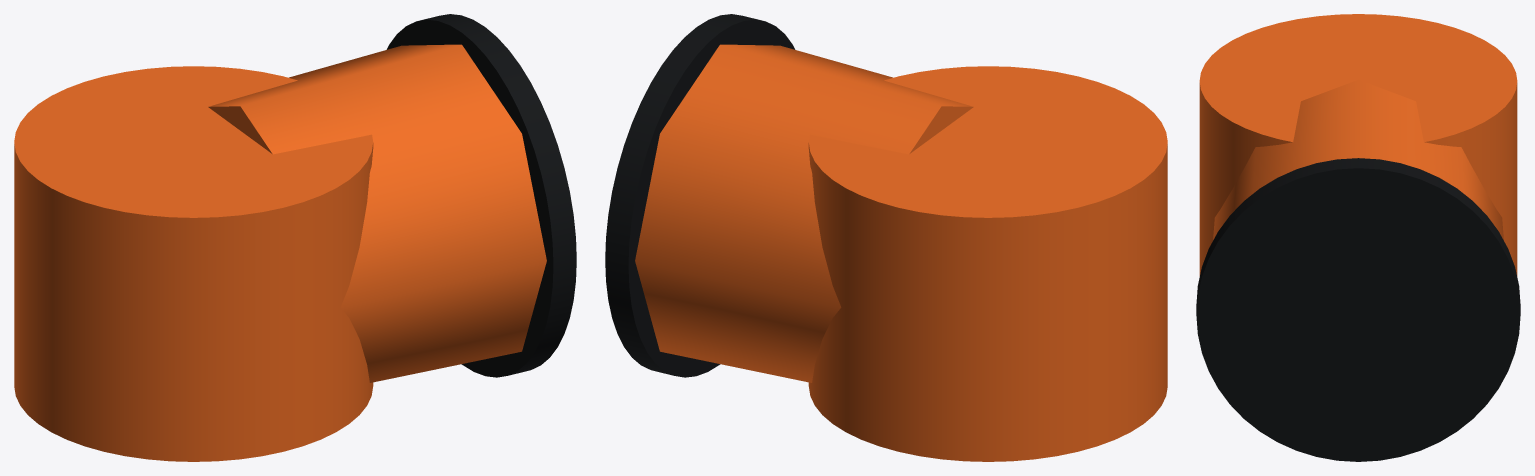
3 renders of one model, left to right at view 1: azimuth 30°, elevation 25°; view 2: azimuth 150°, elevation 25°; view 3: azimuth 270°, elevation 25°, orthographic. The views are drawn at different scales.
Visible parts, largest first — view 1: a5_housing, wrist_nose, a6_seal; view 2: a5_housing, wrist_nose, a6_seal; view 3: a6_seal, a5_housing, wrist_nose.
Part boxes in pixels (bbox=[...]): a5_housing: bbox=[14, 66, 373, 461]; wrist_nose: bbox=[208, 44, 546, 382]; a6_seal: bbox=[386, 14, 576, 377]; a5_housing: bbox=[808, 66, 1167, 461]; wrist_nose: bbox=[635, 44, 973, 382]; a6_seal: bbox=[605, 14, 795, 377]; a6_seal: bbox=[1196, 158, 1520, 461]; a5_housing: bbox=[1199, 14, 1517, 276]; wrist_nose: bbox=[1213, 79, 1503, 240].
Size of the model in its own units: 0.2875 by 0.204 by 0.204.
